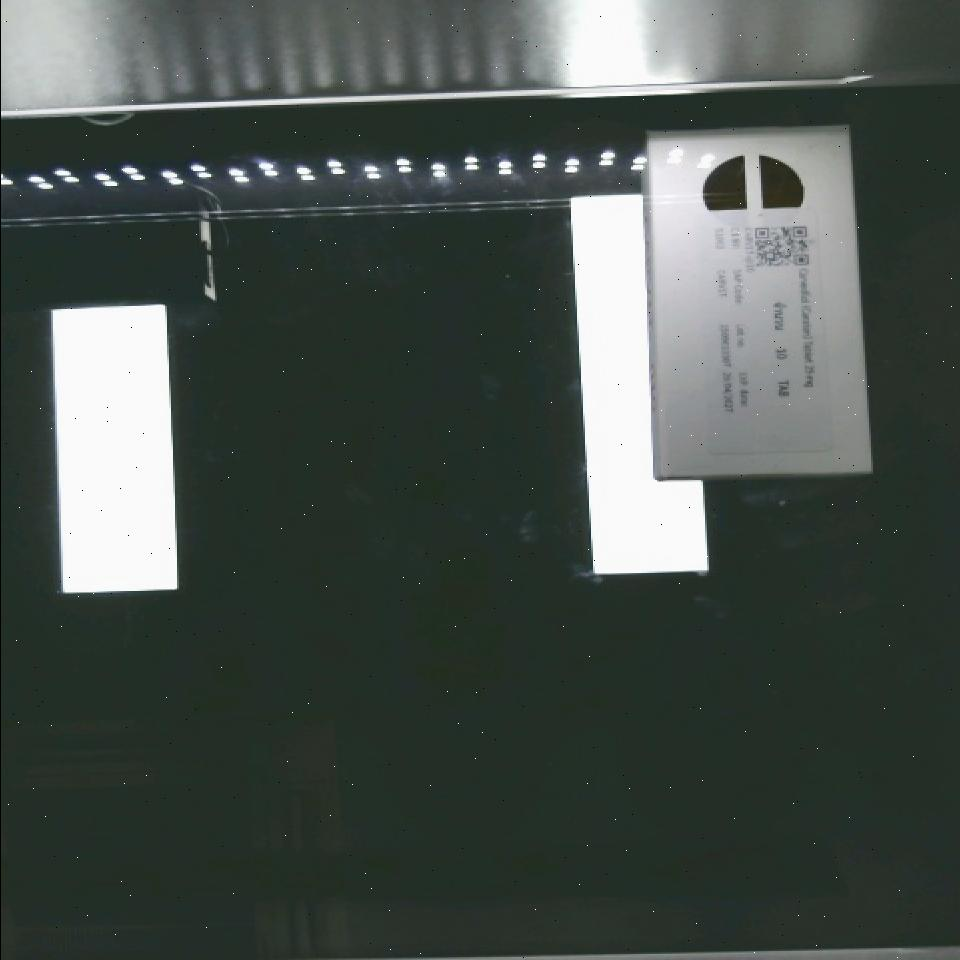medicine_box: (631, 119, 876, 488)
qr_code: (746, 214, 813, 277)
